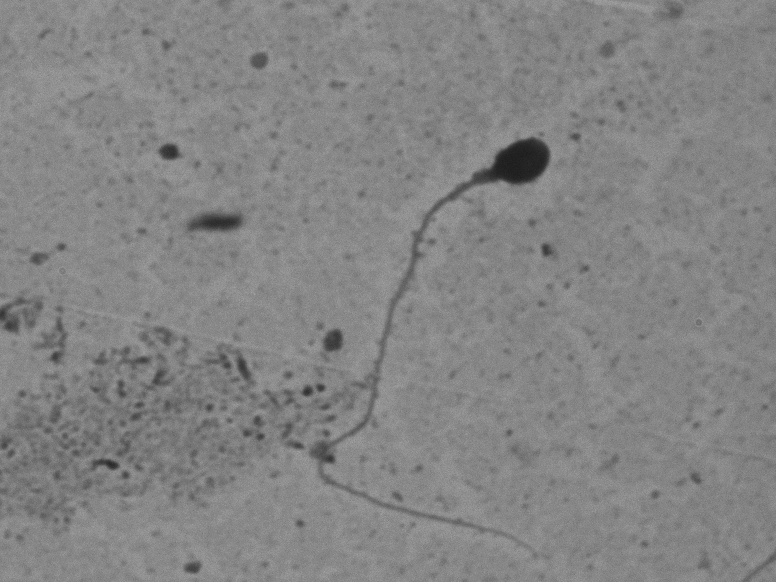Abnormal: (306, 109, 610, 561)
